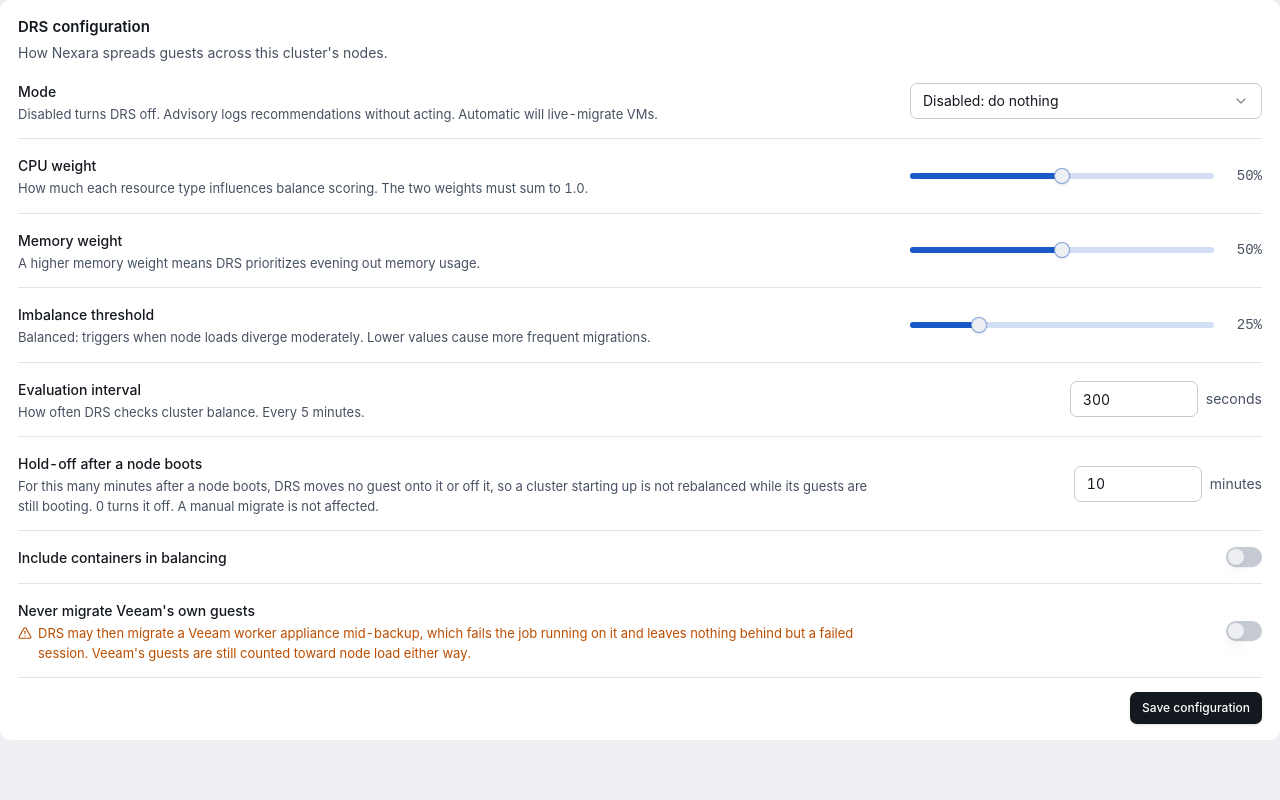
a failed save › is shown once, in place: drs: Save Configuration
This screenshot has width=1280, height=800.
Click the button "Save configuration" at x=1196, y=708, box top-left (1130, 692), bottom-right (1262, 724)
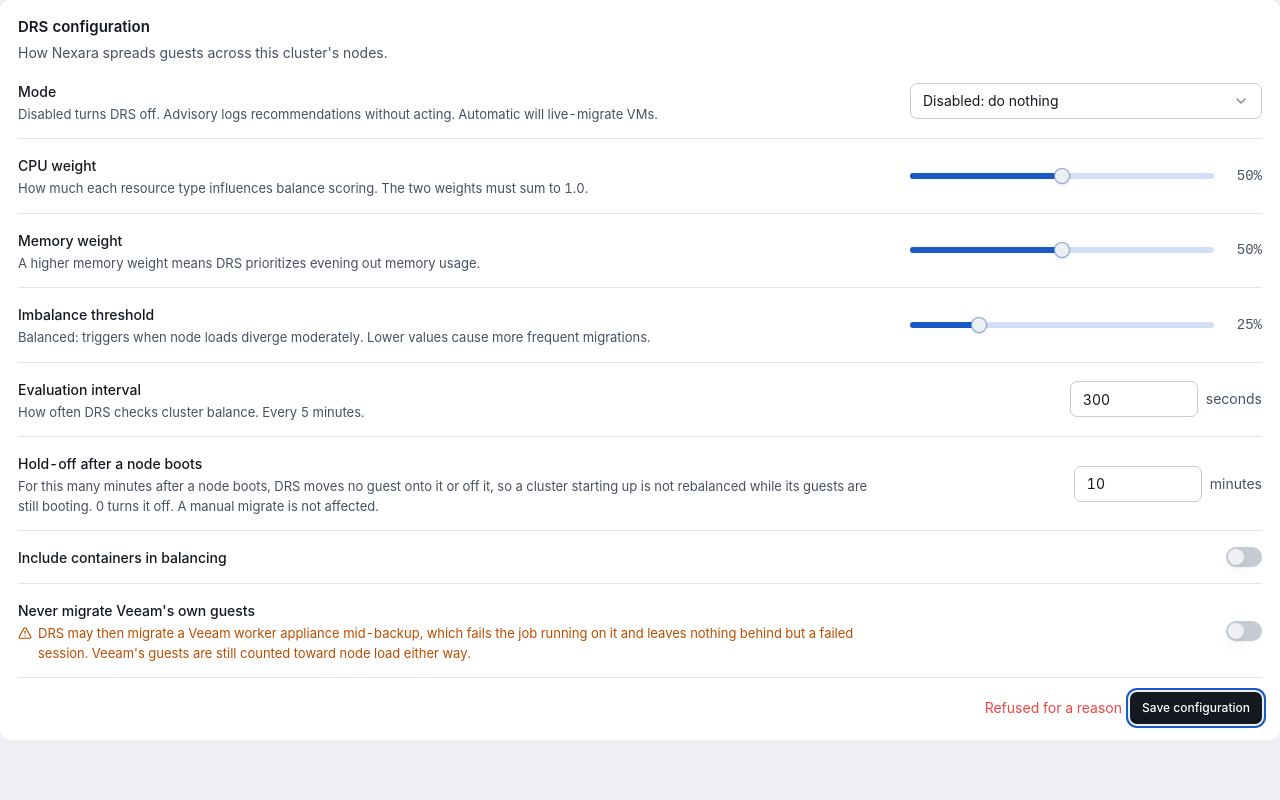
Now the text "Refused for a reason" is shown, box top-left (985, 698), bottom-right (1122, 718)
